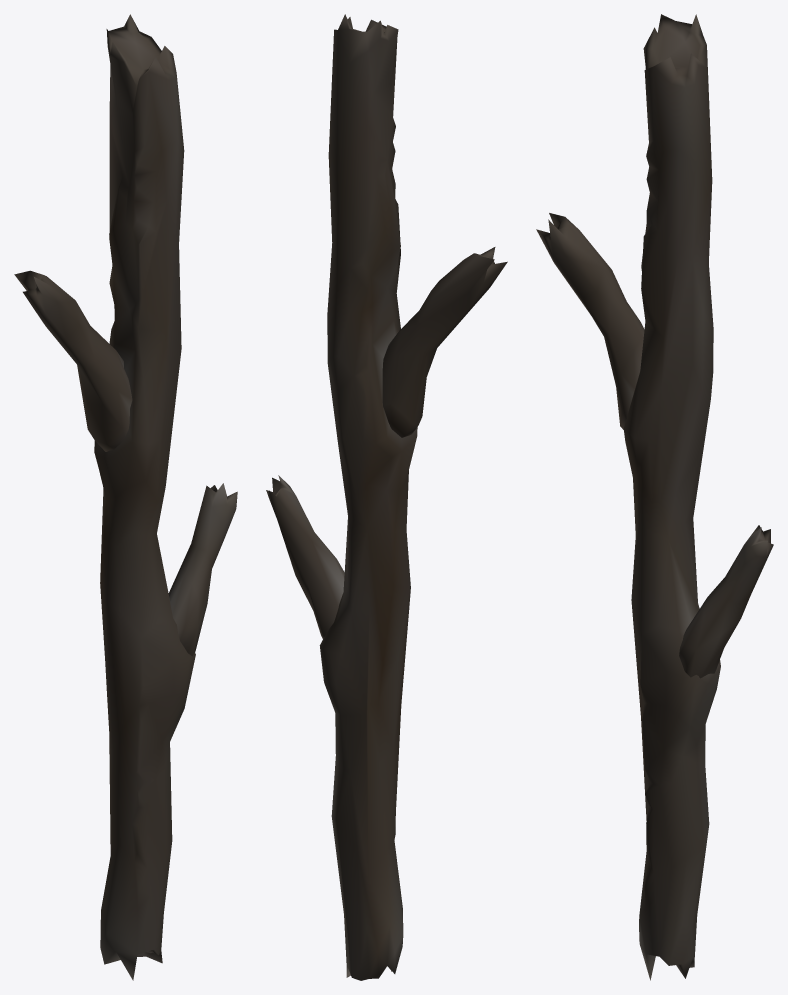
Rendered from PolyBranch.fbx.
The picture shows the model from 3 angles, left to right: view 1: azimuth 30°, elevation 25°; view 2: azimuth 150°, elevation 25°; view 3: azimuth 330°, elevation 25°; orthographic projection. The views are drawn at different scales.
Parts seen in each view (by area): view 1: desimate_branch; view 2: desimate_branch; view 3: desimate_branch.
Boxes of the visible parts, box(x1,y1,x2,y2) form: desimate_branch: box(14, 14, 237, 980); desimate_branch: box(266, 14, 507, 980); desimate_branch: box(536, 14, 773, 980).
Size of the model in its own units: 0.4762 by 1.93 by 0.1649.
